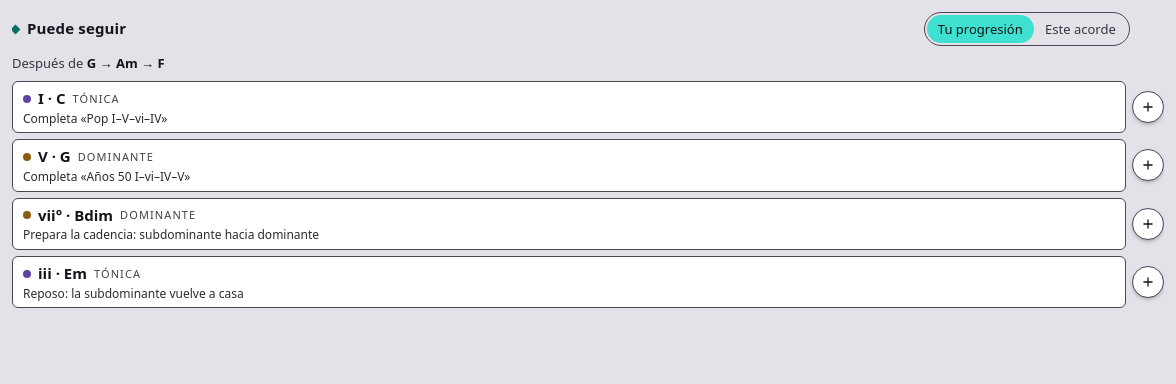
Scenario: "Puede seguir" panel › switches to the selected chord and remembers the choice
Step 1. Click the button "Este acorde" → (1080, 29), box [1034,15,1127,43]
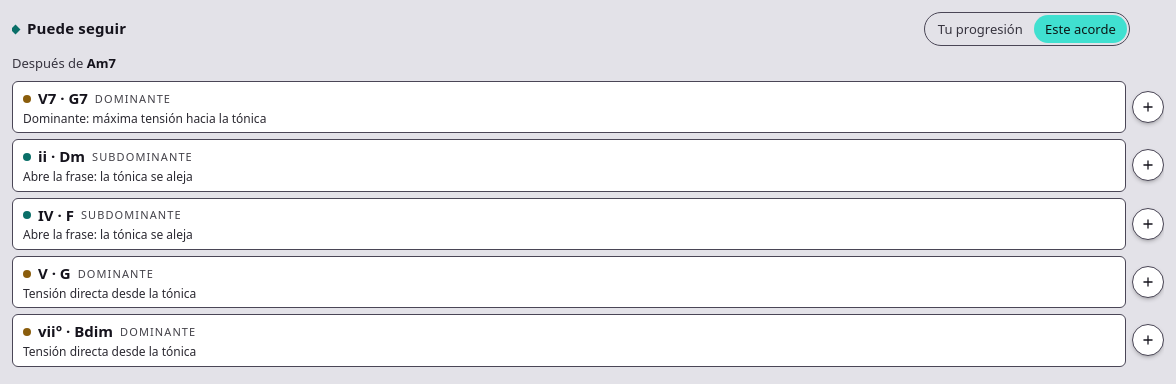
expect the text "Am7" is shown: met, box [87,54,116,72]
expect the button "Completa" is gone: met
